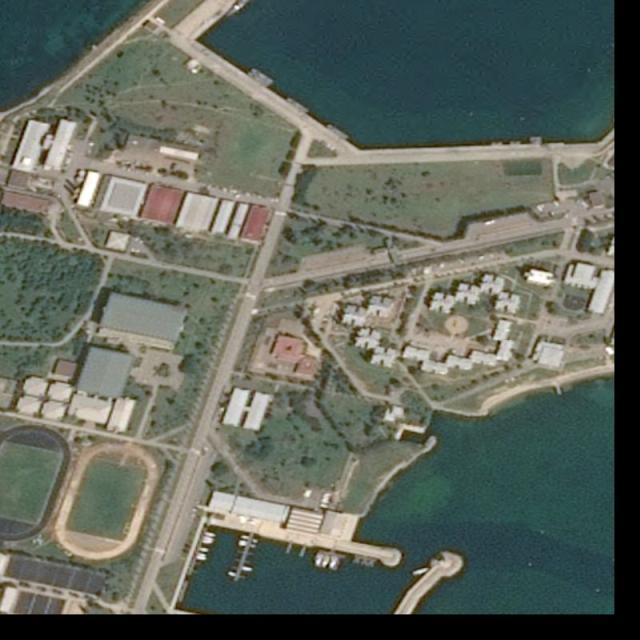ship: (320, 554, 334, 571), (411, 566, 430, 577), (313, 552, 325, 569), (330, 554, 342, 570), (226, 570, 238, 579), (199, 546, 211, 554), (205, 532, 218, 538), (242, 566, 253, 573), (202, 540, 214, 545), (240, 534, 250, 540), (198, 557, 206, 562), (198, 553, 206, 558), (204, 537, 214, 540)
